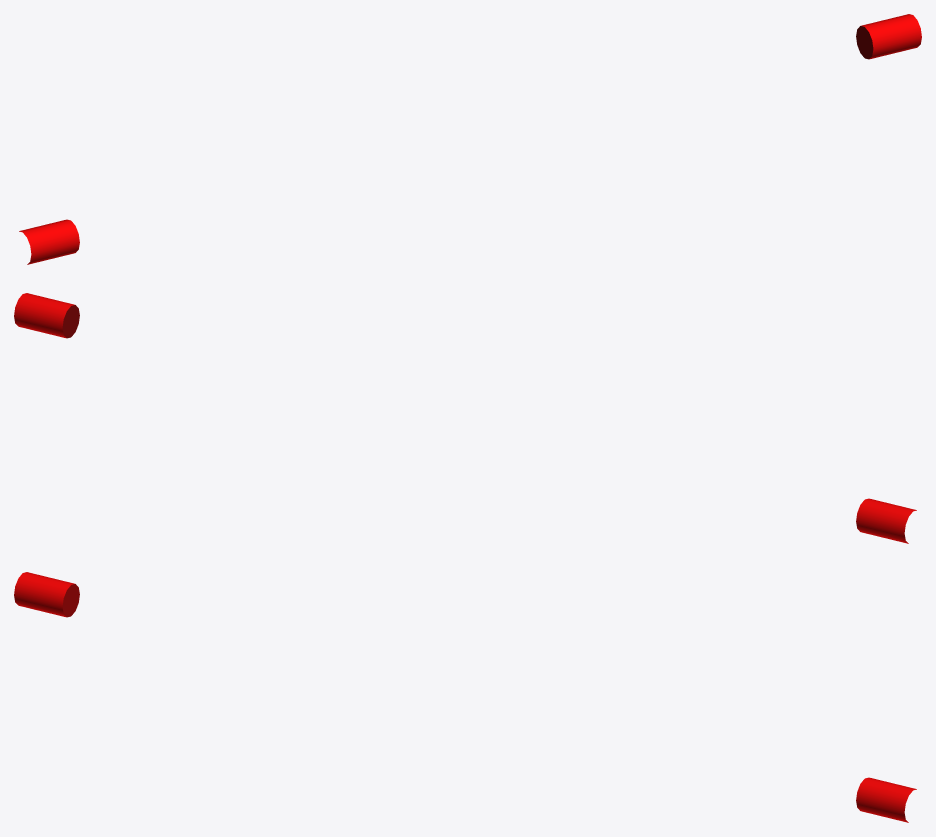
3 renders of one model, top to bottom at view 1: azimuth 30°, elevation 25°; view 2: azimuth 150°, elevation 25°; view 3: azimuth 330°, elevation 25°, orthographic.
Visible parts, largest first — view 1: Joint_0_Object_1, Joint_0_Object_0; view 2: Joint_0_Object_1, Joint_0_Object_0; view 3: Joint_0_Object_0, Joint_0_Object_1.
Part boxes in pixels (x1,y1,x2,y2): Joint_0_Object_1: [856, 14, 921, 59]; Joint_0_Object_0: [19, 219, 79, 264]; Joint_0_Object_1: [14, 293, 79, 338]; Joint_0_Object_0: [856, 498, 916, 543]; Joint_0_Object_0: [14, 572, 79, 617]; Joint_0_Object_1: [856, 777, 916, 822].
Bounding box in the file's own units: 2917 × 98.54 × 98.54.
Materials: 1 (1 with a texture image).
